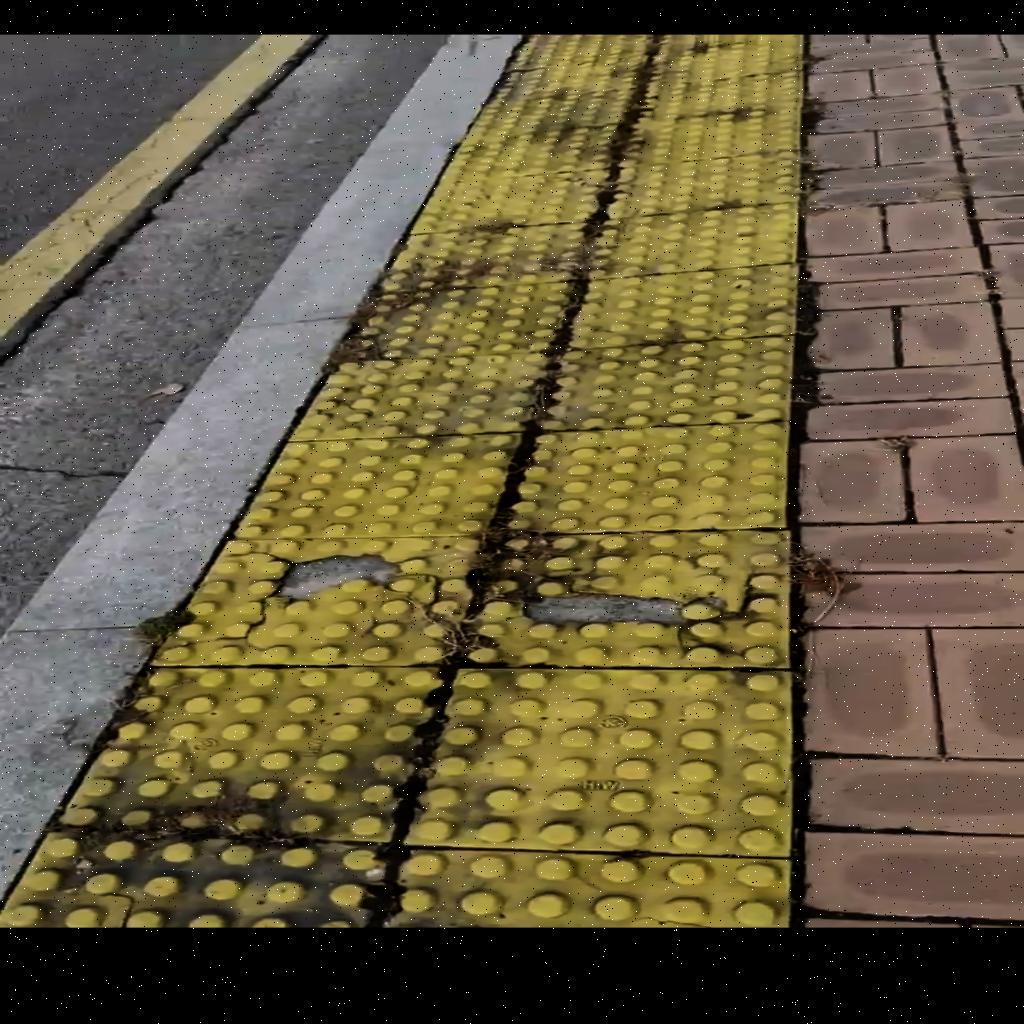Stop block broken: (462, 533, 789, 667), (152, 537, 485, 664)
Stop block normal: (503, 424, 789, 530), (232, 434, 522, 537)
